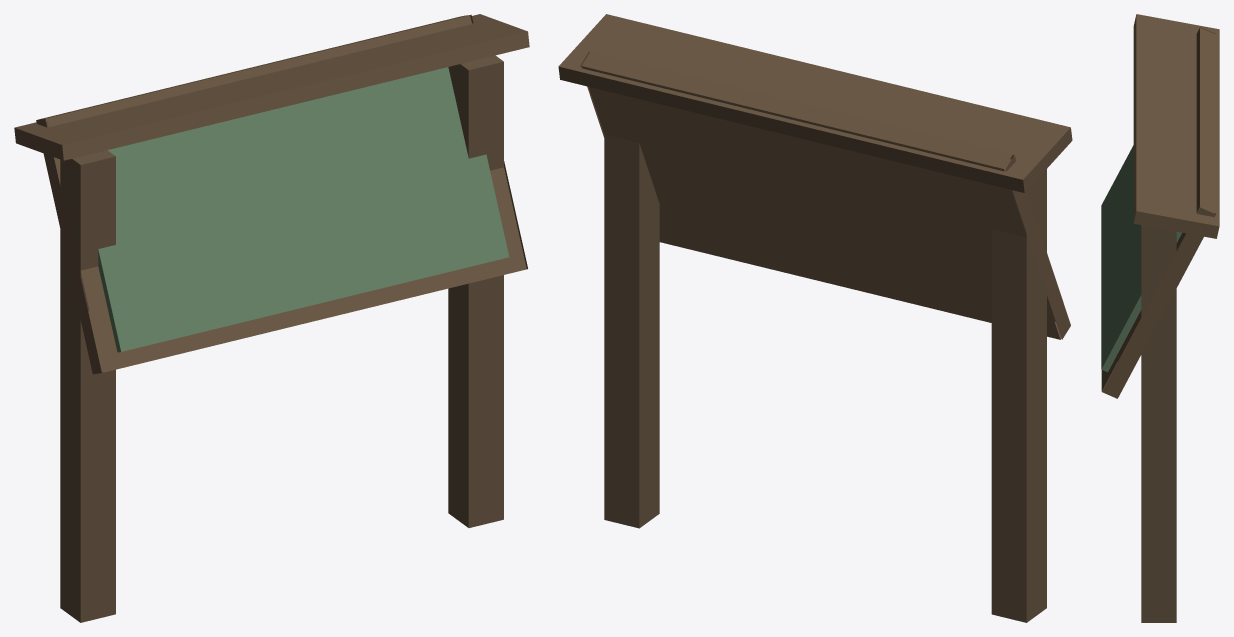
File: street.furniture.info_board.glb
3 views of the same model, side by side, from view 1: azimuth 30°, elevation 25°; view 2: azimuth 150°, elevation 25°; view 3: azimuth 270°, elevation 25° (orthographic). The views are drawn at different scales.
Visible parts, largest first — view 1: main__paint_686, main__glaze_654, main__galv_654; view 2: main__galv_654, main__glaze_654; view 3: main__galv_654, main__glaze_654, main__paint_686.
Part boxes in pixels (x1,y1,x2,y2): main__paint_686: [98, 67, 509, 352]; main__glaze_654: [60, 55, 503, 622]; main__galv_654: [14, 14, 529, 374]; main__galv_654: [558, 14, 1072, 339]; main__glaze_654: [604, 134, 1046, 622]; main__galv_654: [1101, 14, 1219, 398]; main__glaze_654: [1141, 225, 1176, 622]; main__paint_686: [1101, 145, 1181, 372].
Size of the model in its own units: 1.32 by 1.31 by 0.3342.
